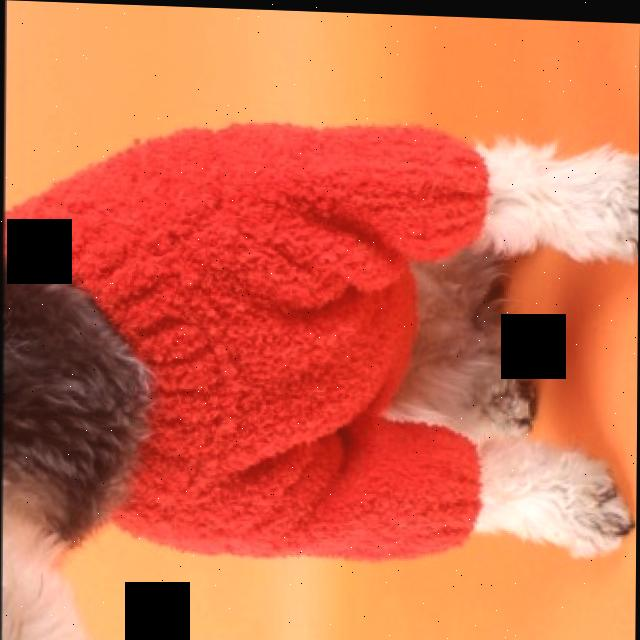cloth: (7, 123, 486, 556)
